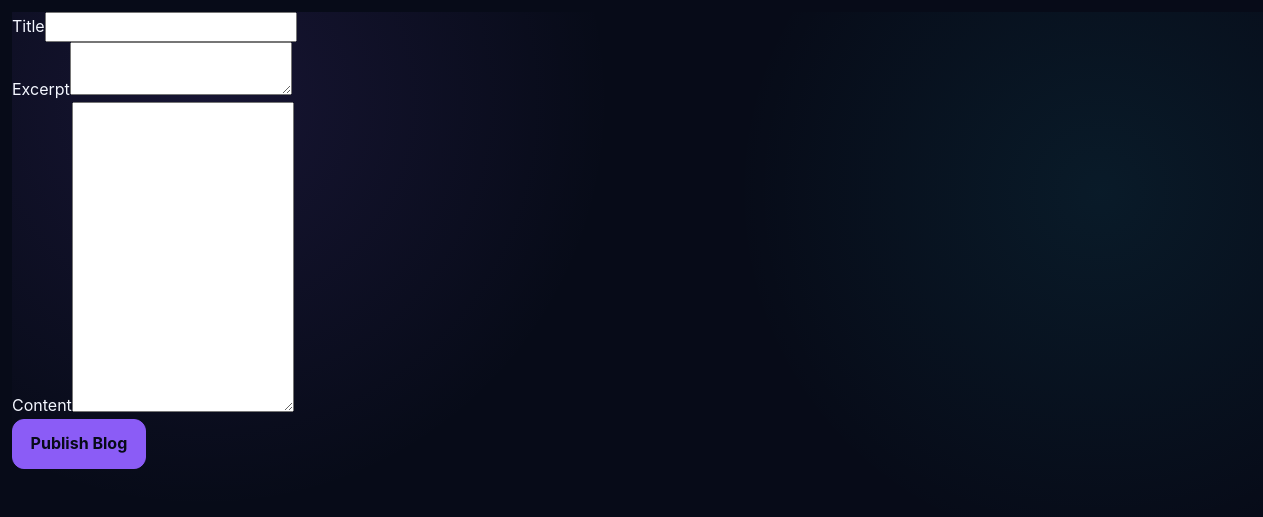
Test: BlogForm › shows a validation error when the blog content is too short
This screenshot has width=1263, height=517.
Step 1. Type "Test Blog" into the field labelled "Title" → (171, 27), box [45,12,297,42]
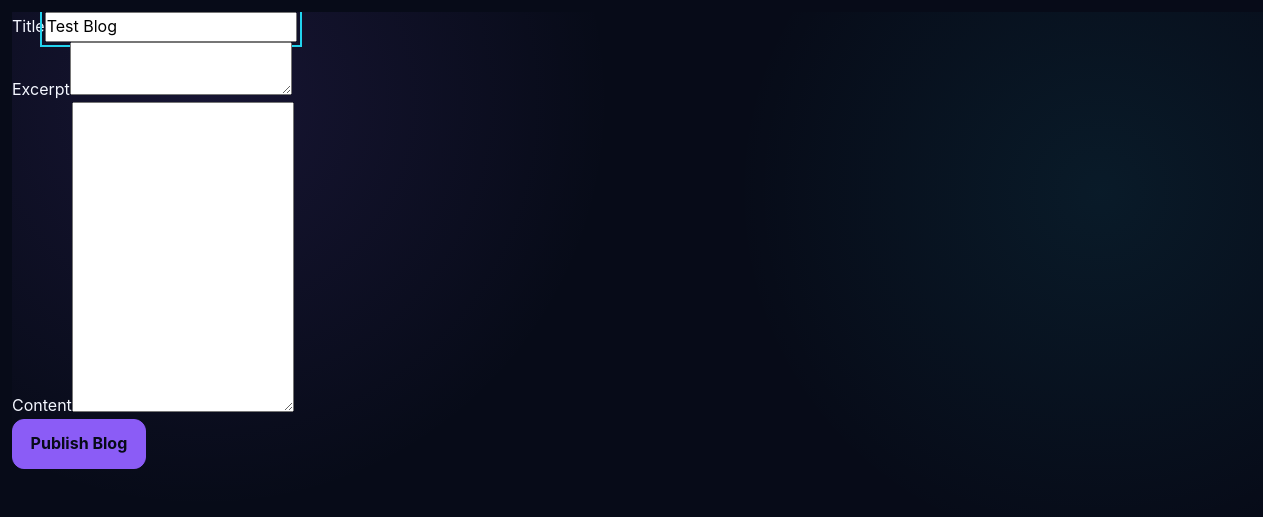
Step 2. Type "This is a valid excerpt." into the text box labelled "Excerpt" → (181, 68), box [70,42,292,95]
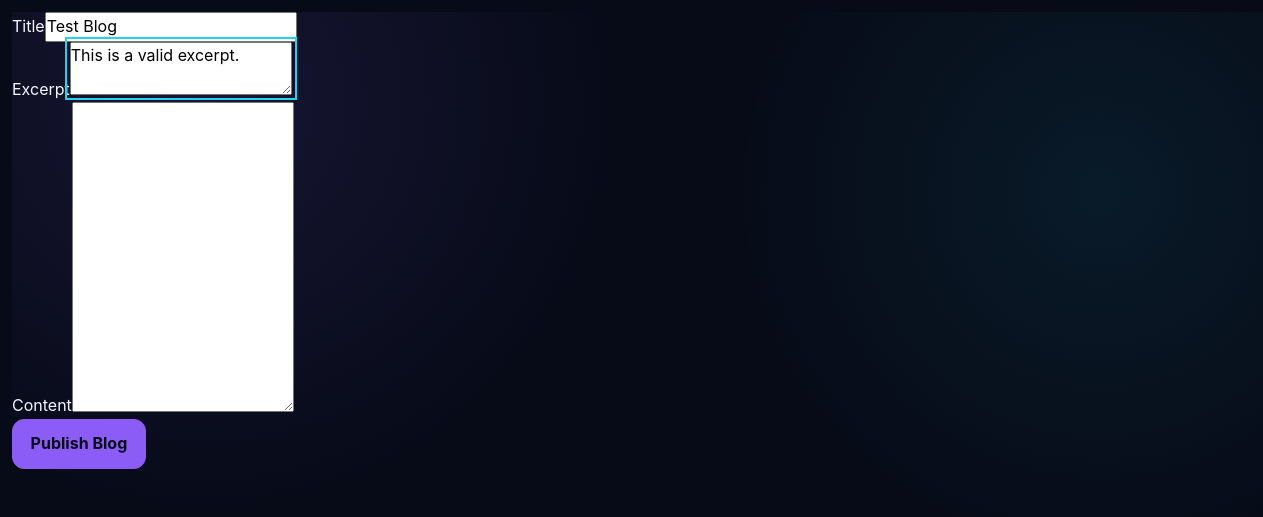
Step 3. Type "Too short" into the text box labelled "Content" → (183, 257), box [72,102,294,412]
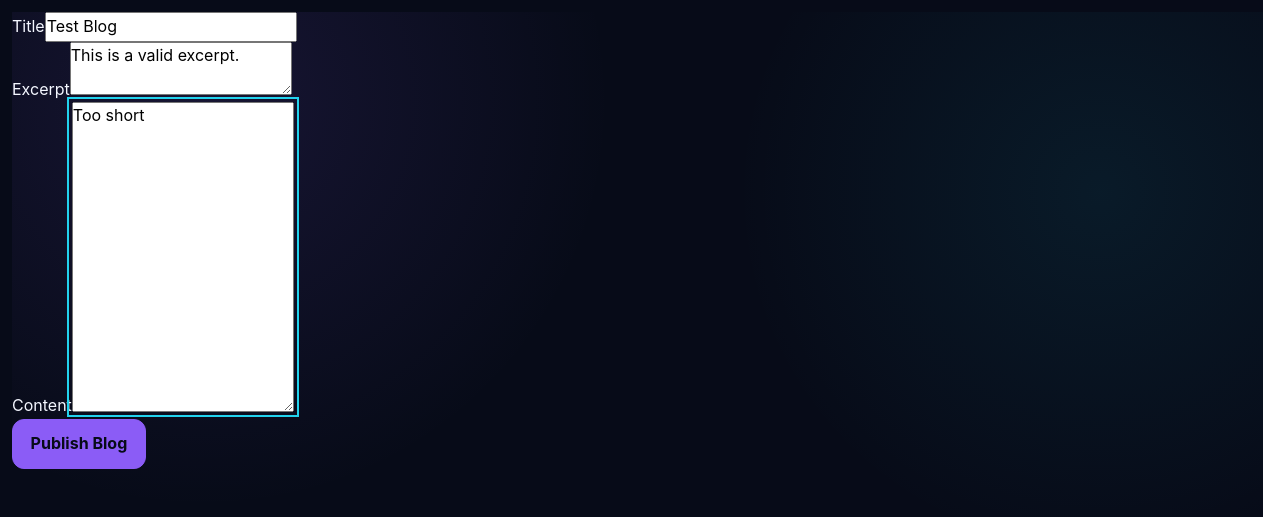
Step 4. Click the button "Publish Blog" → (79, 444), box [12,419,146,469]
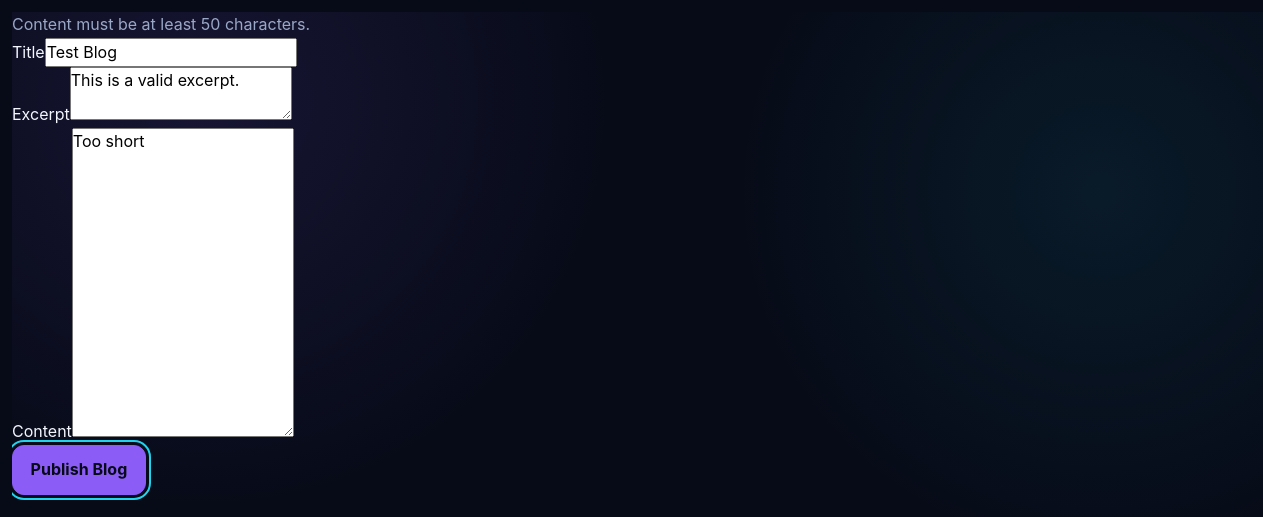
Check: the text "Content must be at least 50 characters." is shown, box [12,14,310,34]
